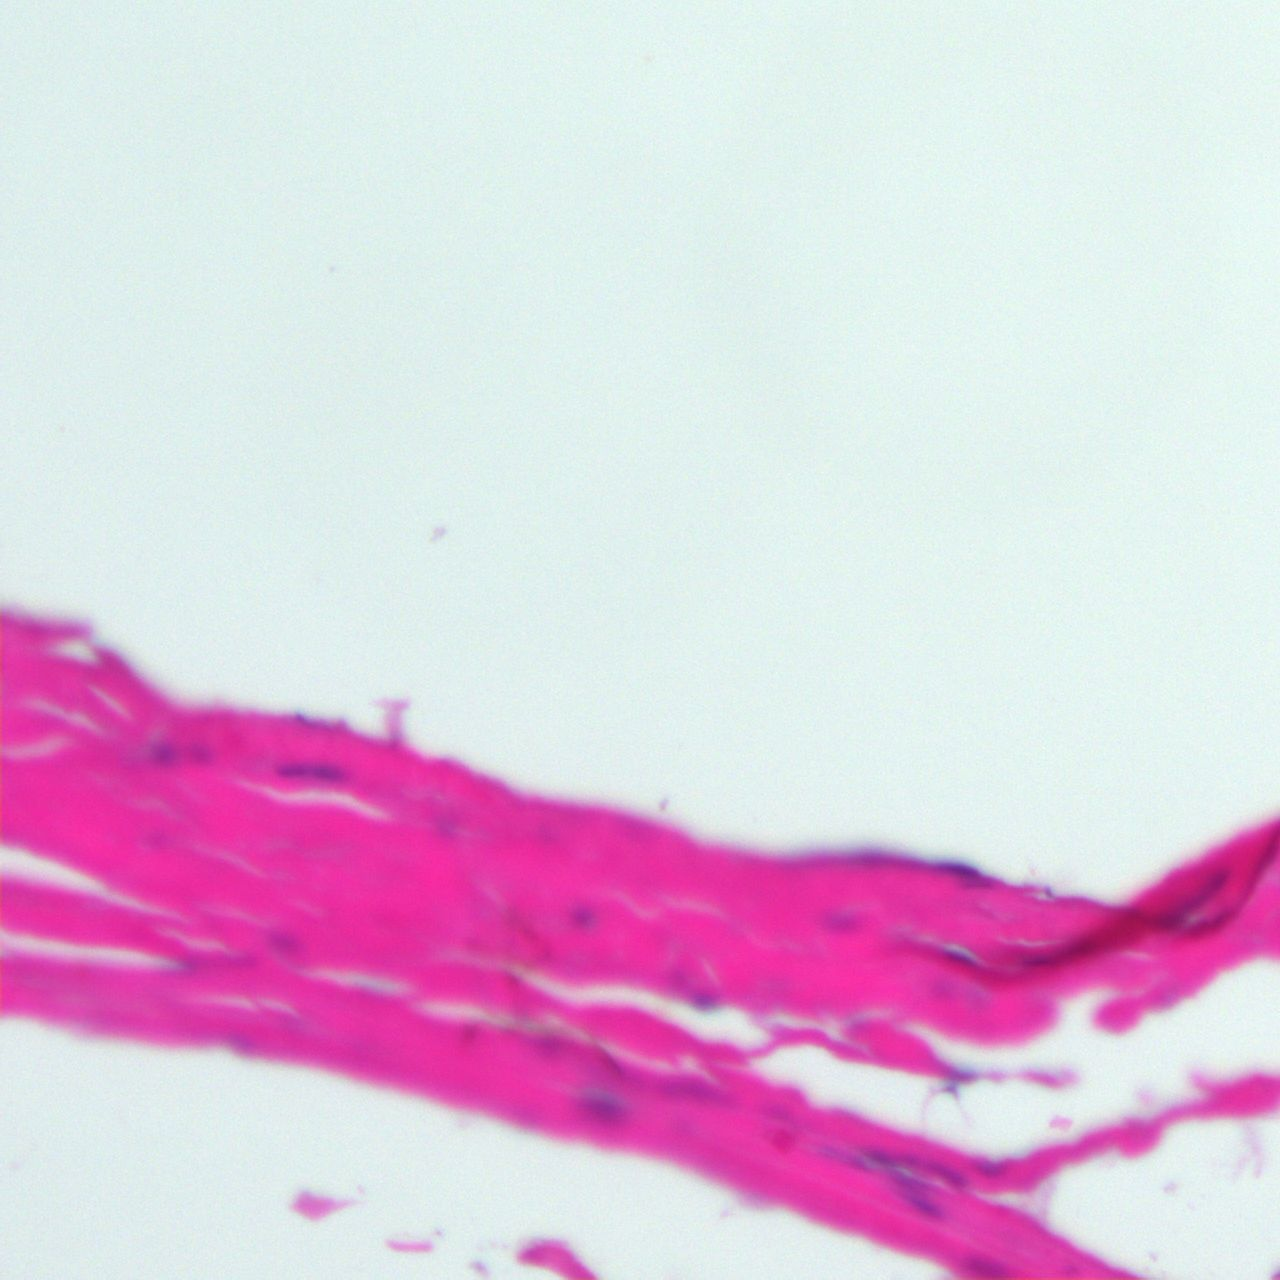nucleus-HE: (888, 1178, 952, 1226), (907, 855, 995, 887), (572, 1092, 627, 1129), (260, 922, 305, 967), (275, 755, 349, 779), (136, 738, 183, 775), (557, 896, 595, 935), (685, 985, 722, 1014)
